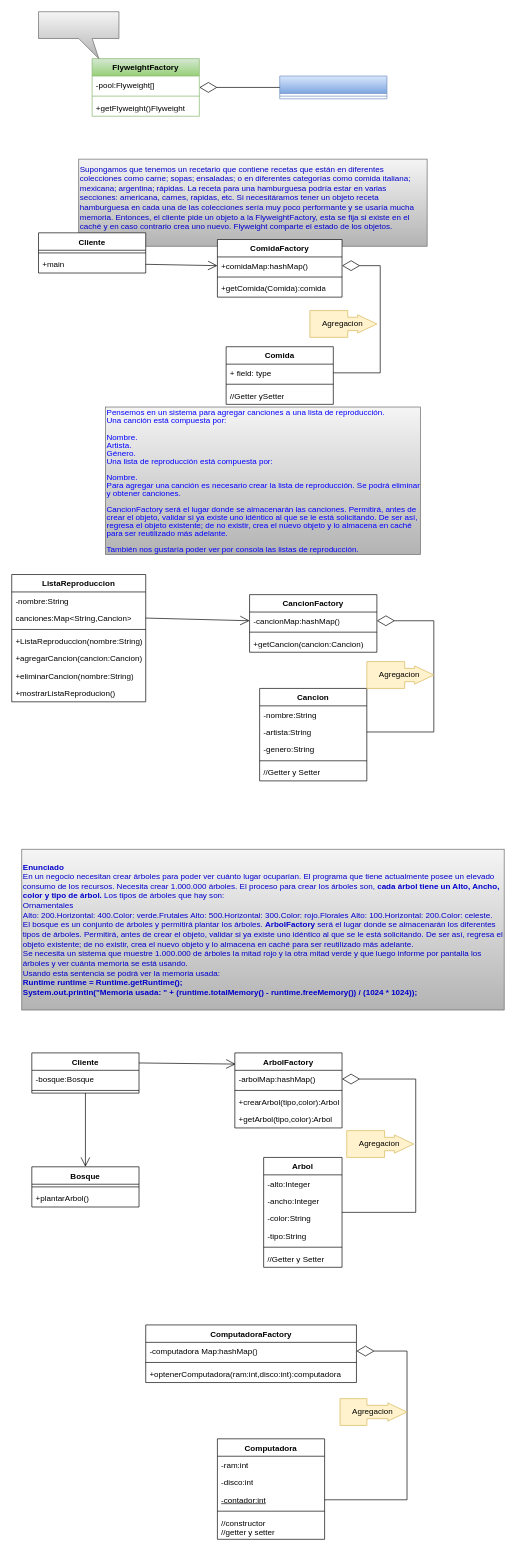
The diagram is 516 pixels wide and 1553 high, and some of its shapes have lost their labels. The shapes that lost their labels are listed below. From the top down, each one's centre as x and y in pixels, then its label:
At pixel 78 35: "Patron Flyweight Basico".
At pixel 333 87: "Flyweight".
